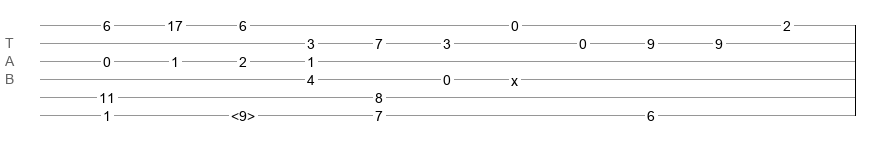0: (103, 54, 111, 64), (443, 72, 451, 82), (511, 18, 519, 28), (579, 36, 587, 46)
1: (103, 108, 111, 118), (171, 54, 179, 64), (307, 54, 315, 64)
11: (99, 90, 115, 100)
17: (167, 18, 183, 28)
2: (239, 54, 247, 64), (783, 18, 791, 28)
3: (307, 36, 315, 46), (443, 36, 451, 46)
4: (307, 72, 315, 82)
6: (103, 18, 111, 28), (239, 18, 247, 28), (647, 108, 655, 118)
7: (375, 108, 383, 118), (375, 36, 383, 46)
8: (375, 90, 383, 100)
9: (647, 36, 655, 46), (715, 36, 723, 46)
harmonic: (231, 108, 255, 118)
x: (511, 73, 518, 81)
